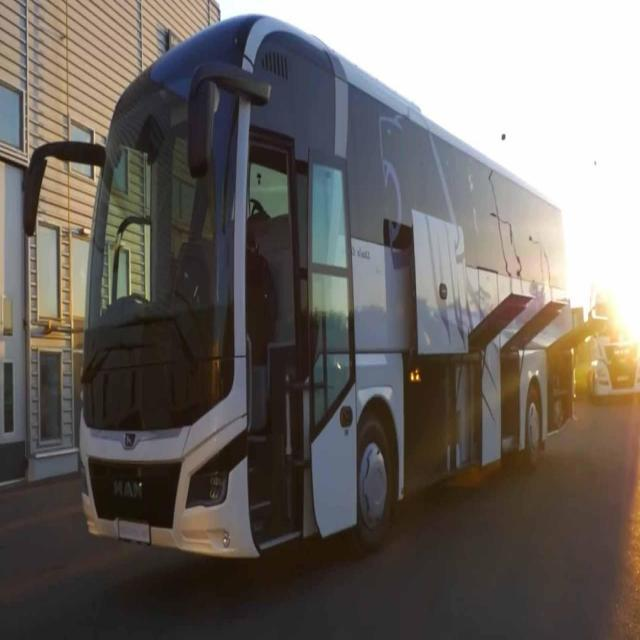bus: (8, 8, 590, 574)
